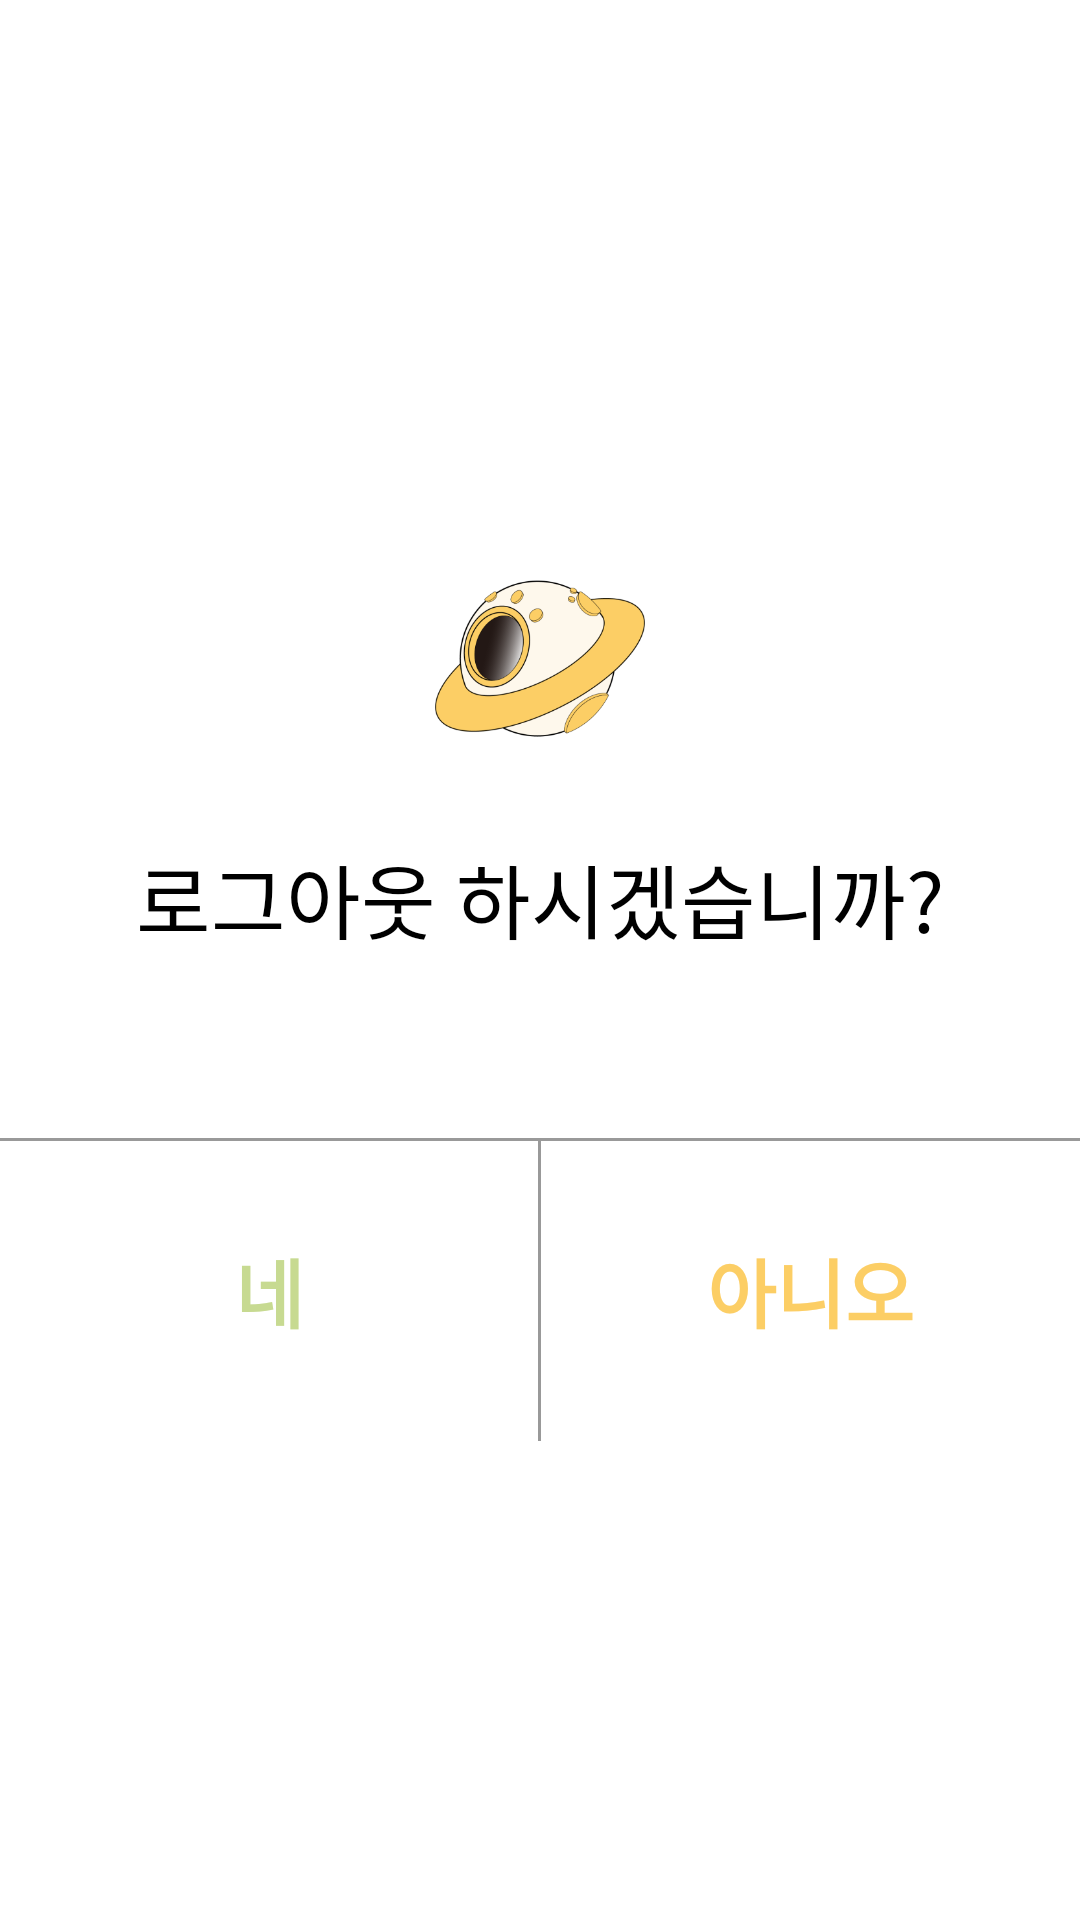

Screen size 1080*1920. Icon name, then its box in pixels as detection(x1, y1, x2, y2):
planet: detection(435, 580, 645, 737)
